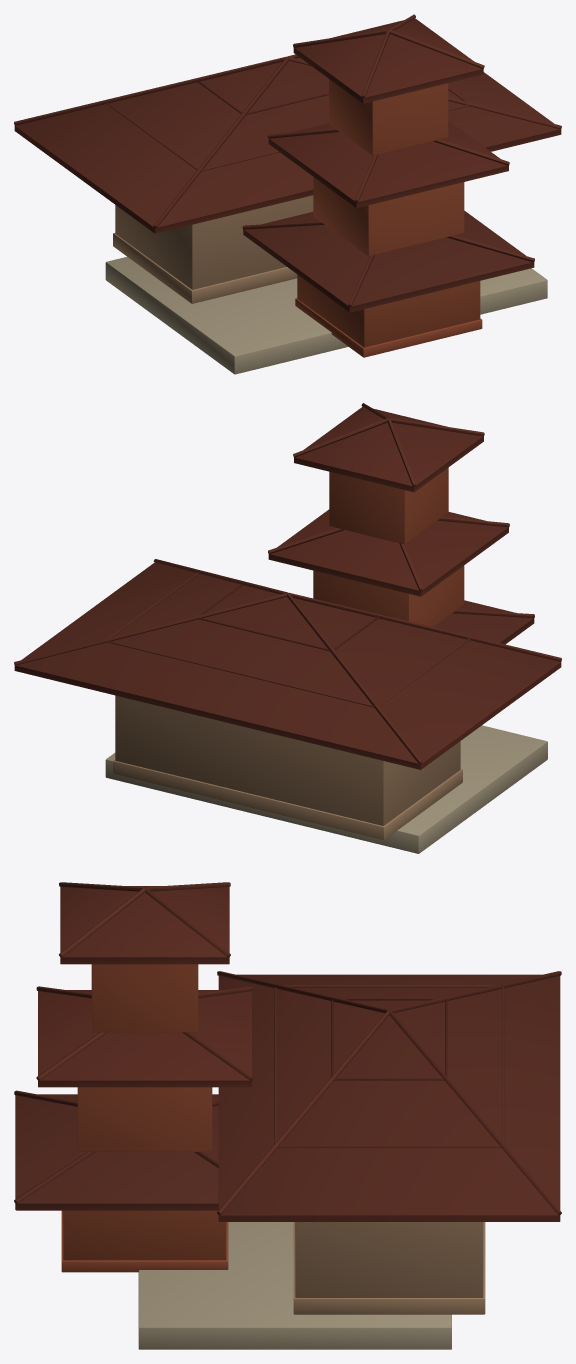
Rendered from lm-chuadau.glb.
3 views of the same model, one above another, from view 1: azimuth 30°, elevation 25°; view 2: azimuth 150°, elevation 25°; view 3: azimuth 270°, elevation 25° (orthographic). The views are drawn at different scales.
Size of the model in its own units: 9.11 by 6.51 by 8.74.
